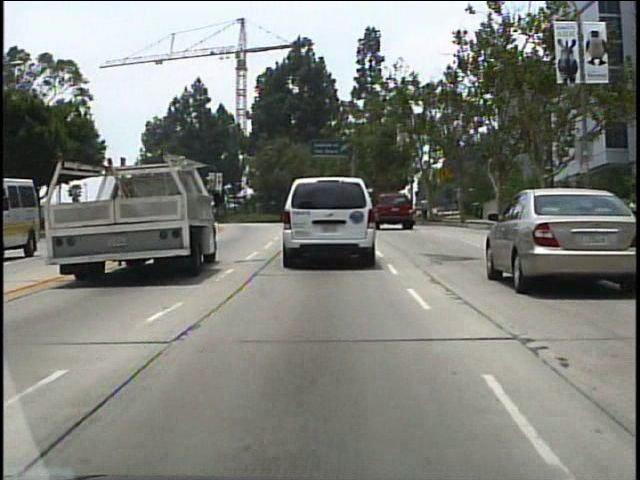person: (418, 194, 432, 226)
